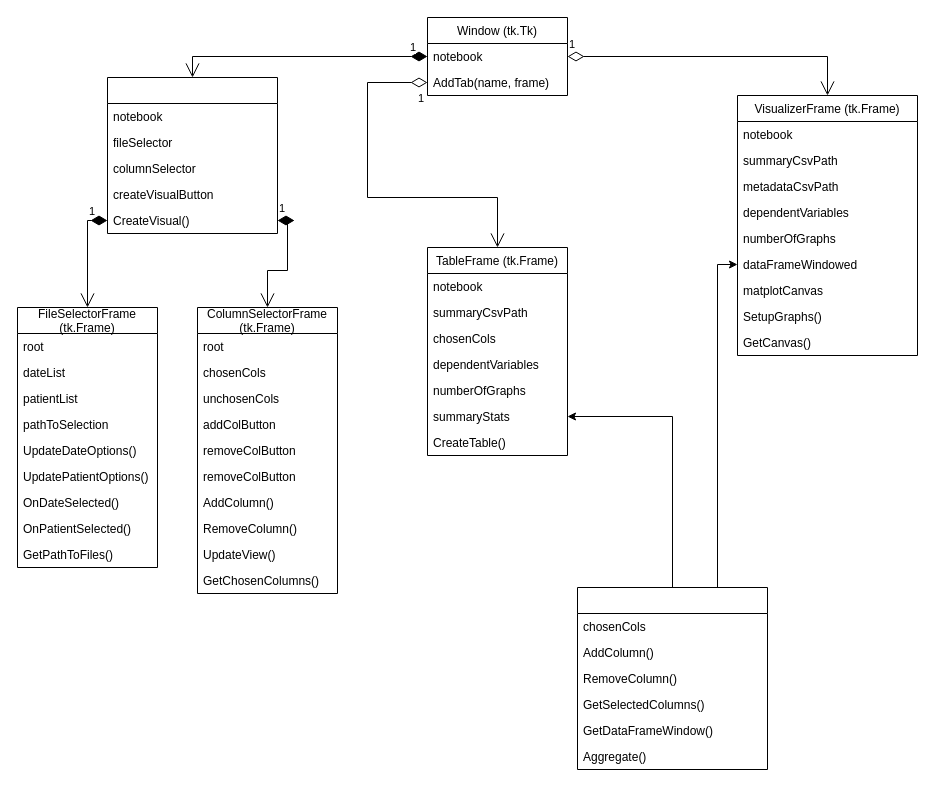
Image size: 935x790. Some labels were removed from this diagram. Here are the shapes that lost their labels. From the top down, the box of each, then its label:
(106, 76, 278, 234): DataBuilderFrame (tk.Frame)
(576, 586, 768, 770): DataFrame_Windowed
